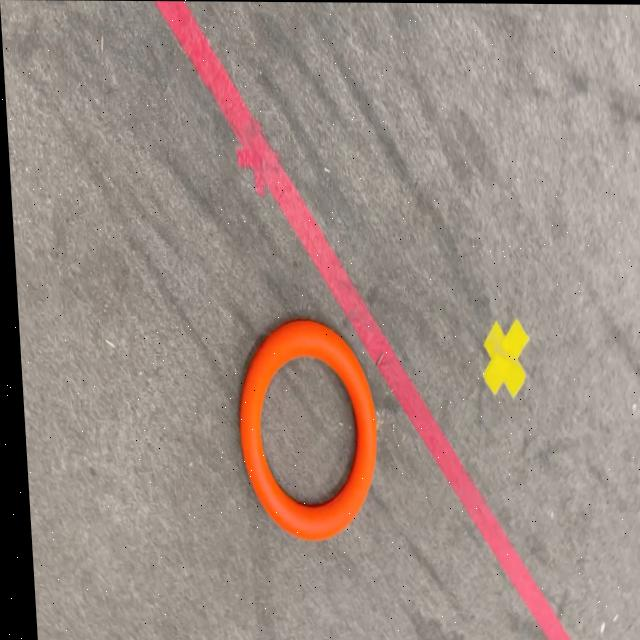note: (230, 318, 377, 541)
